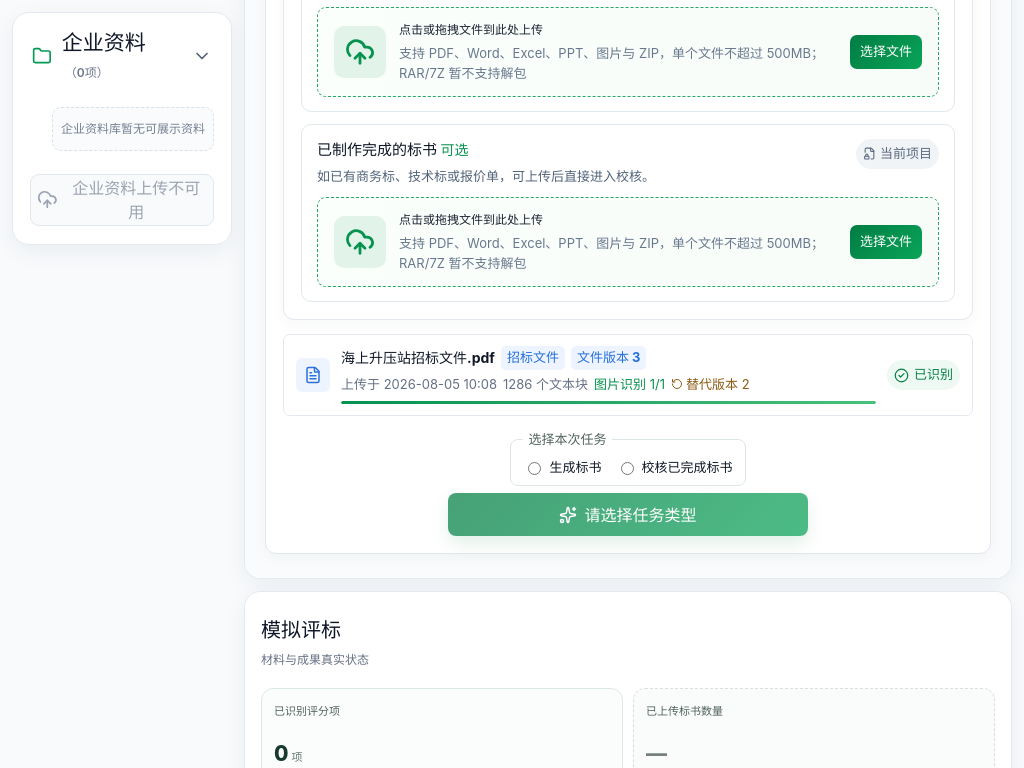
Test: ProjectMaterialsPage › loads real image descriptions on demand and exposes identifier conflicts
(page scrolled)
Click the button "图片识别 1/1". click: (630, 384)
box: [594,374,665,394]
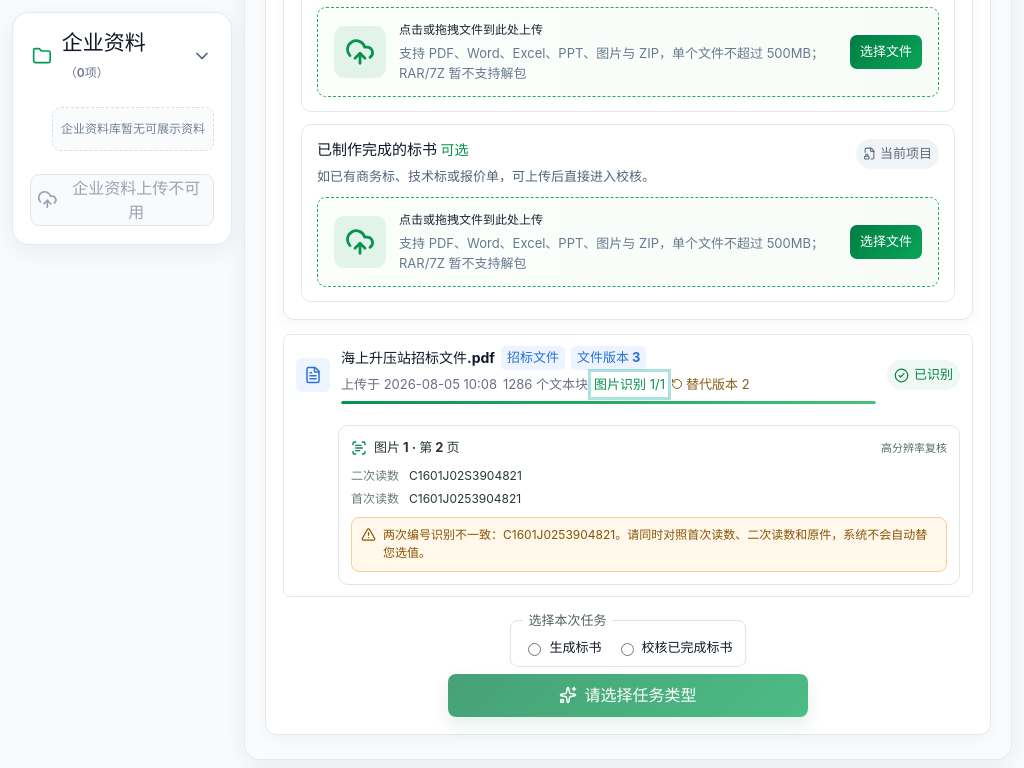
expect the text "二次读数" is shown: met, box [351,466,399,484]
expect the message shows "两次编号识别不一致": met, box [383,526,503,542]
expect the text "C1601J02S3904821" is shown: met, box [409,468,522,482]
